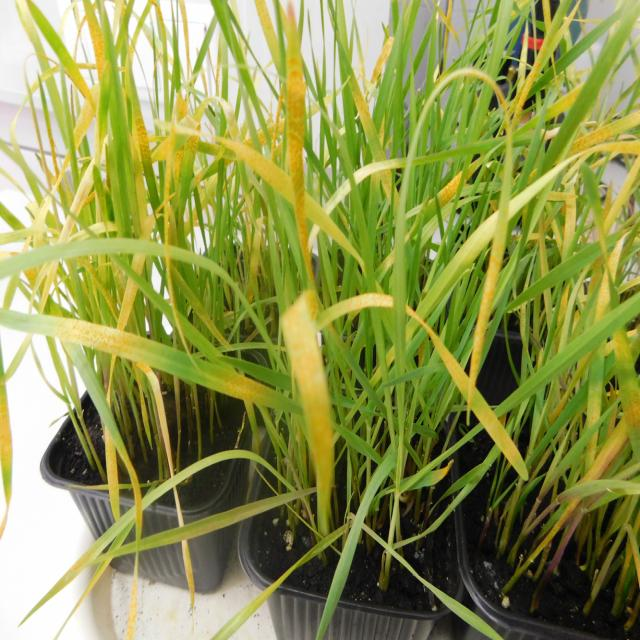wheat-yellowrust: (0, 309, 281, 406), (424, 325, 529, 482), (281, 293, 338, 538), (285, 54, 311, 251)
